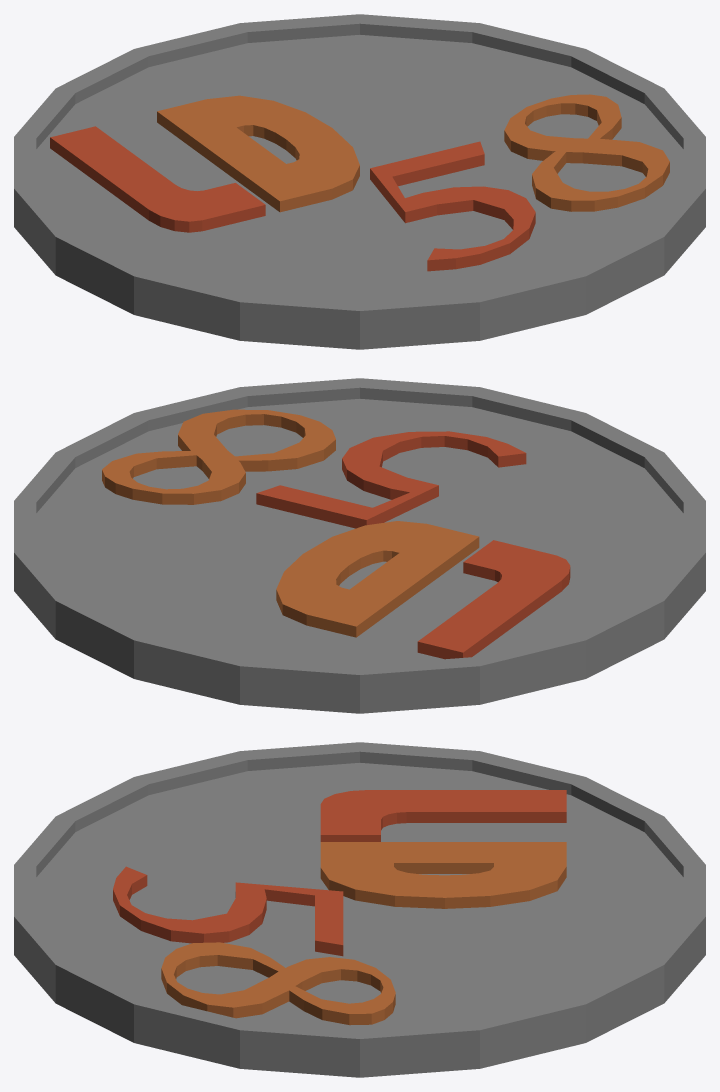
The model's file is Coin_LD58.fbx.
3 renders of one model, top to bottom at view 1: azimuth 30°, elevation 25°; view 2: azimuth 150°, elevation 25°; view 3: azimuth 270°, elevation 25°, orthographic.
Visible parts, largest first — view 1: Coin_LD58; view 2: Coin_LD58; view 3: Coin_LD58.
Boxes of the visible parts, left/top/right/bottom form: Coin_LD58: left=14, top=14, right=705, bottom=349; Coin_LD58: left=14, top=378, right=705, bottom=713; Coin_LD58: left=14, top=742, right=705, bottom=1077.
Bounding box in the file's own units: 4.28 × 0.2597 × 4.21.
